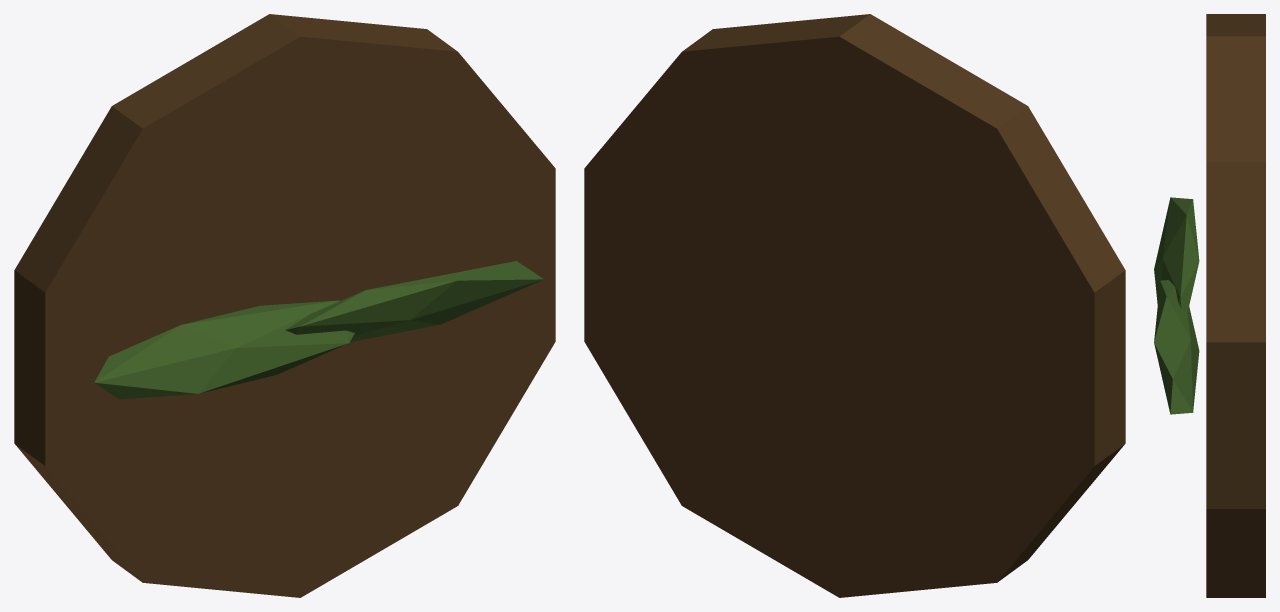
File: 1_seedling.obj
3 renders of one model, left to right at view 1: azimuth 30°, elevation 25°; view 2: azimuth 150°, elevation 25°; view 3: azimuth 270°, elevation 25°, orthographic. The views are drawn at different scales.
Visible parts, largest first — view 1: tulip_1_seedling; view 2: tulip_1_seedling; view 3: tulip_1_seedling.
Part boxes in pixels (left/top/right/bottom): tulip_1_seedling: left=14, top=14, right=555, bottom=597; tulip_1_seedling: left=584, top=14, right=1125, bottom=597; tulip_1_seedling: left=1154, top=14, right=1265, bottom=597.
Size of the model in its own units: 0.1902 by 0.2 by 0.0376.
